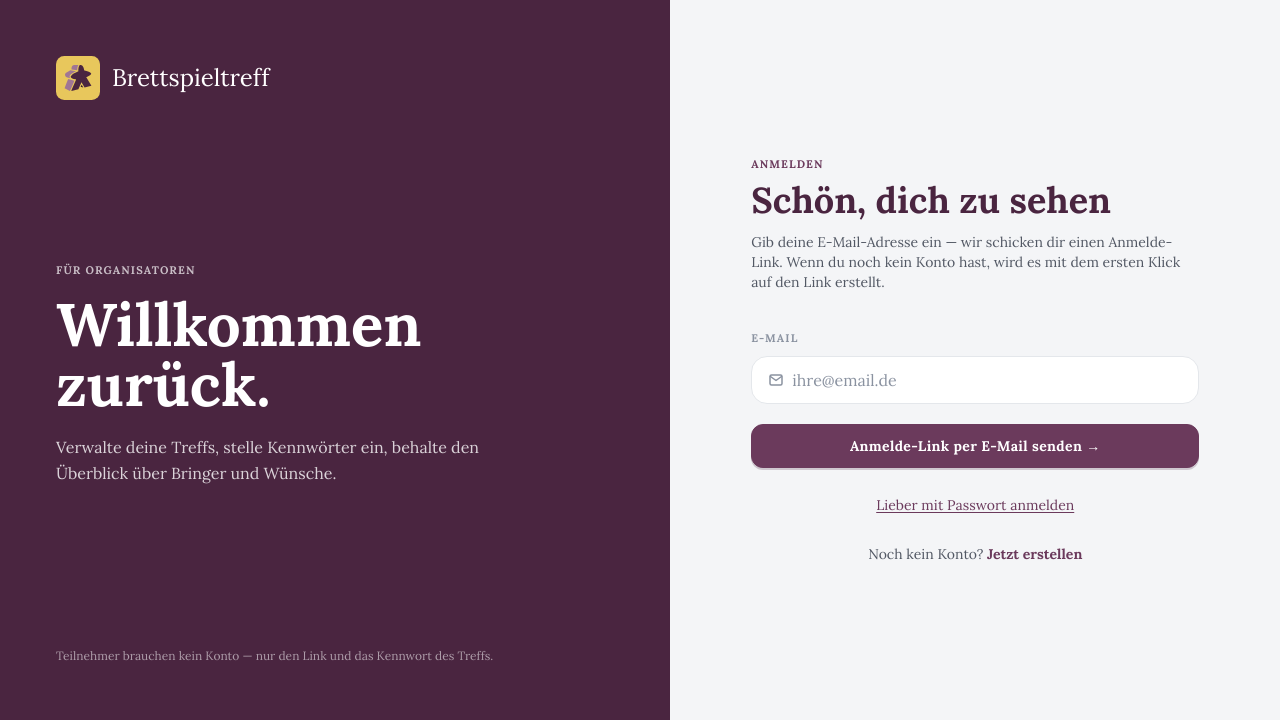
LoginPage › shows error when password login fields are empty
Click the button "Lieber mit Passwort anmelden".
click(975, 505)  # box [876,495,1074,515]
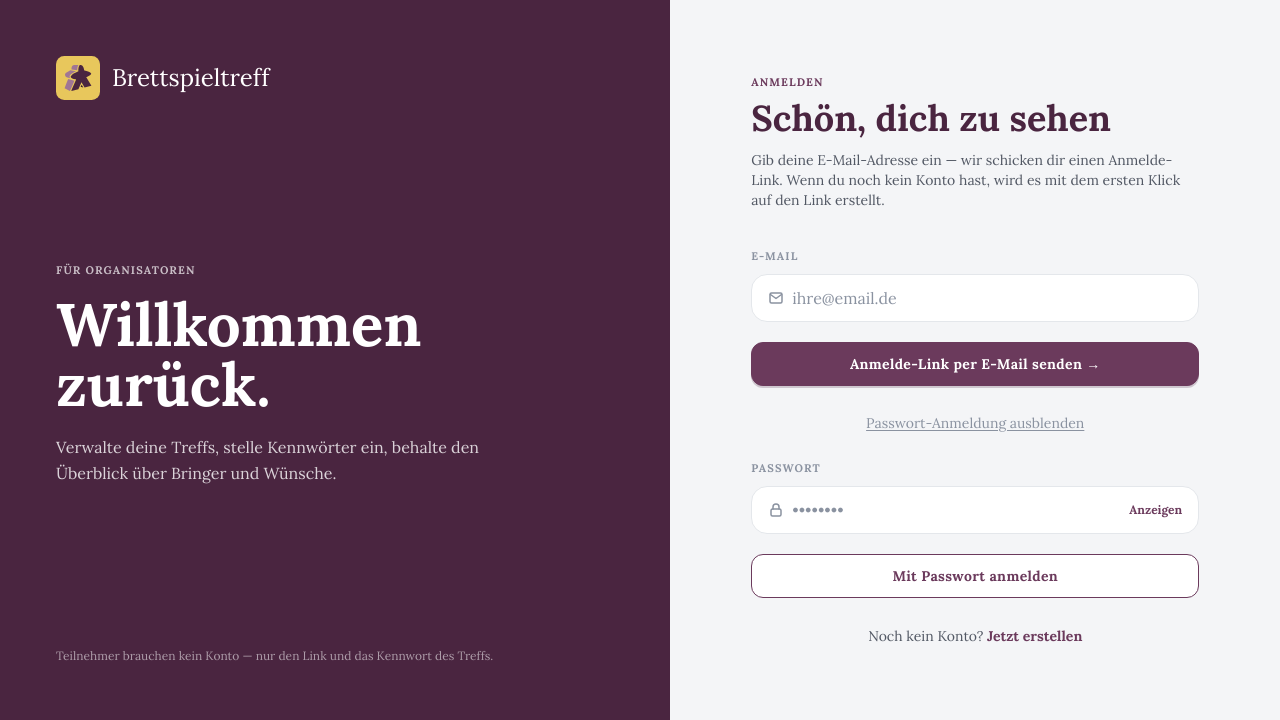
Click the button "Mit Passwort anmelden".
click(975, 576)  # box [751,554,1199,598]
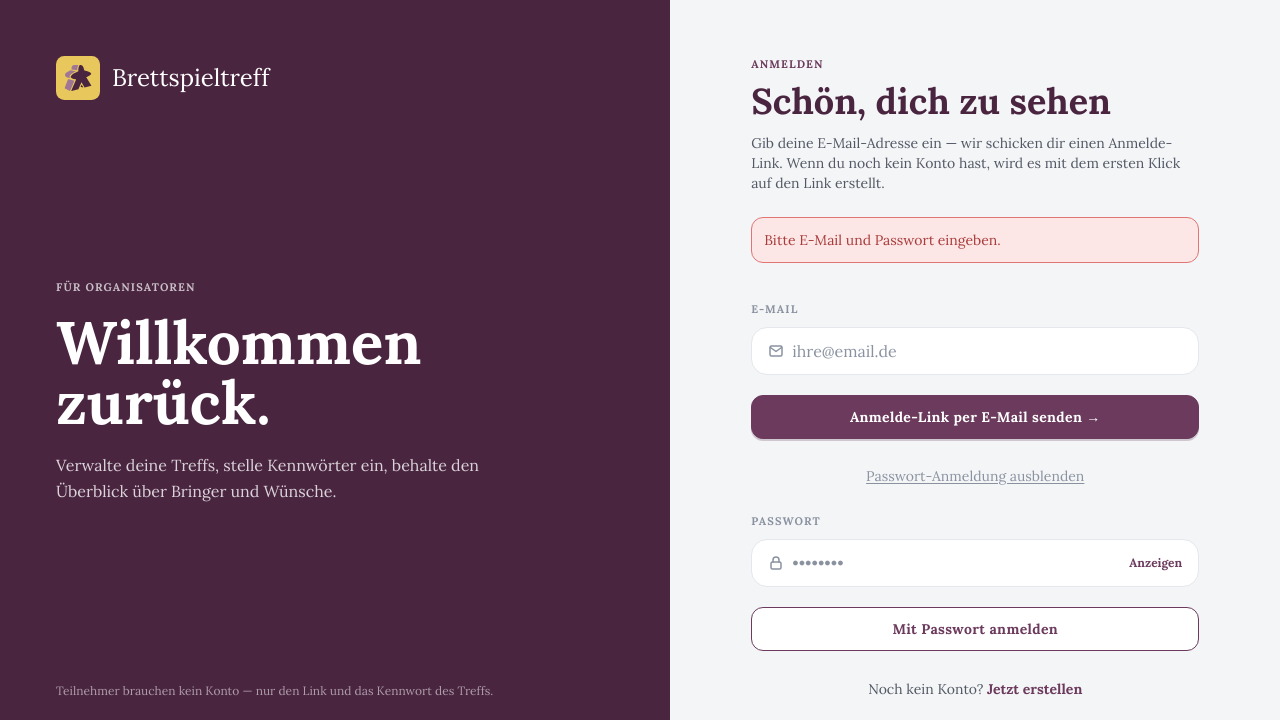
Check: the text "Bitte E-Mail und Passwort eingeben." is shown, box [751,216,1199,262]
